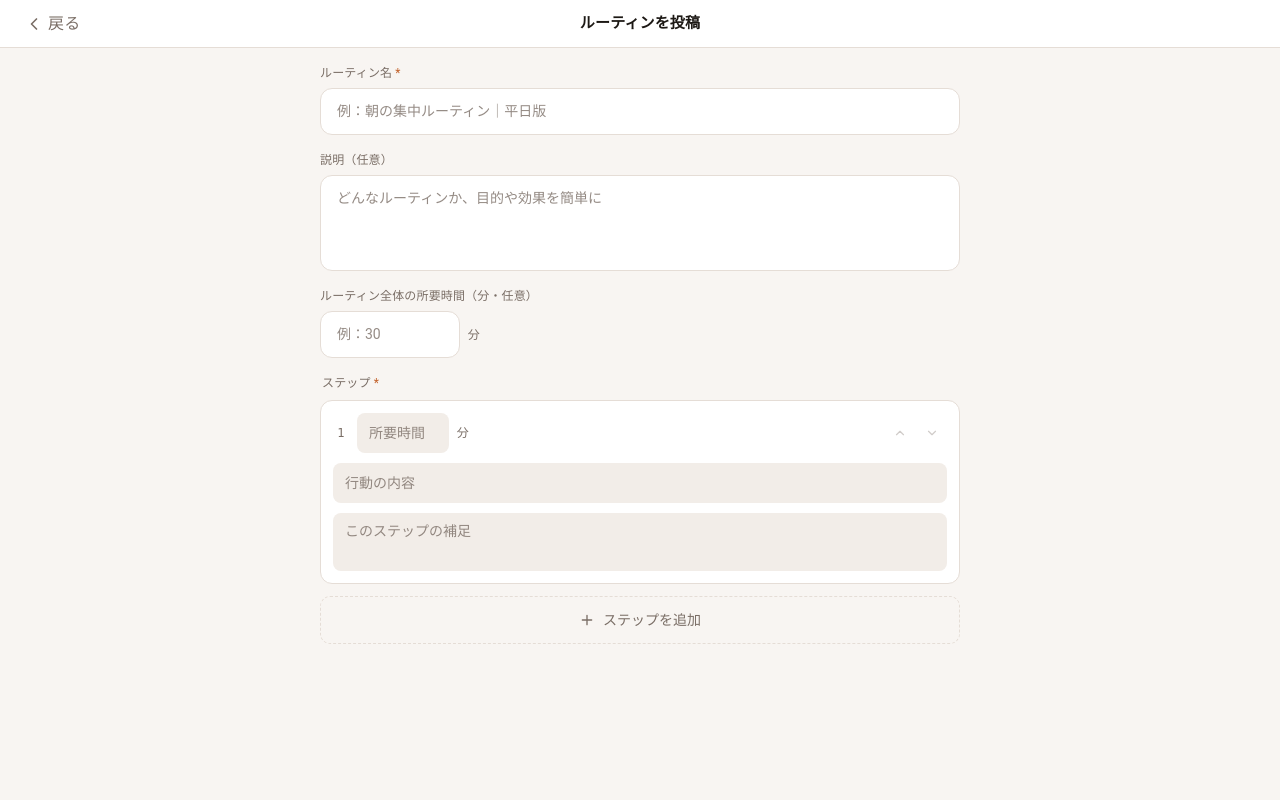
it: RoutineCreatePage › 送信失敗時に API error を表示する
This screenshot has width=1280, height=800.
In the field labelled "ルーティン名 *": (640, 112) [320,88,960,135], type "朝の習慣"
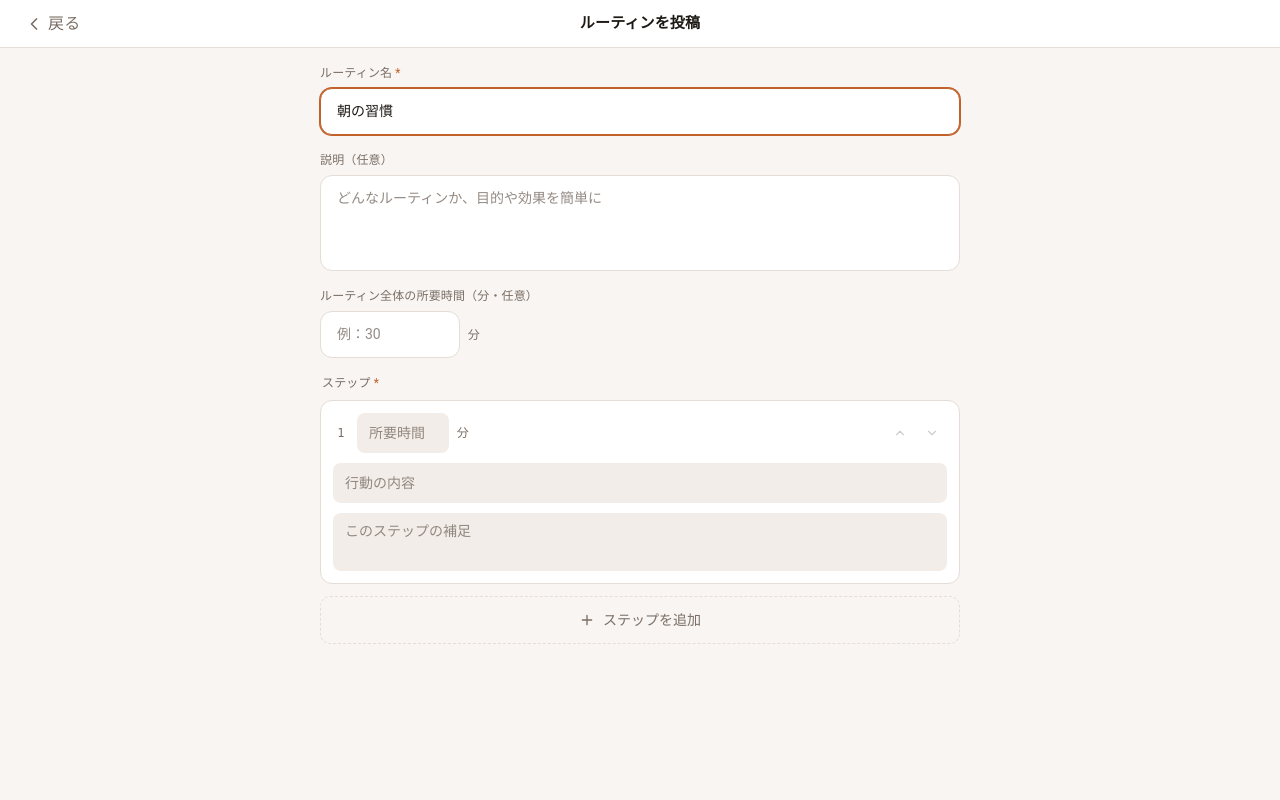
In the field with placeholder "行動の内容": (640, 483) [333,463,947,503], type "水を飲む"
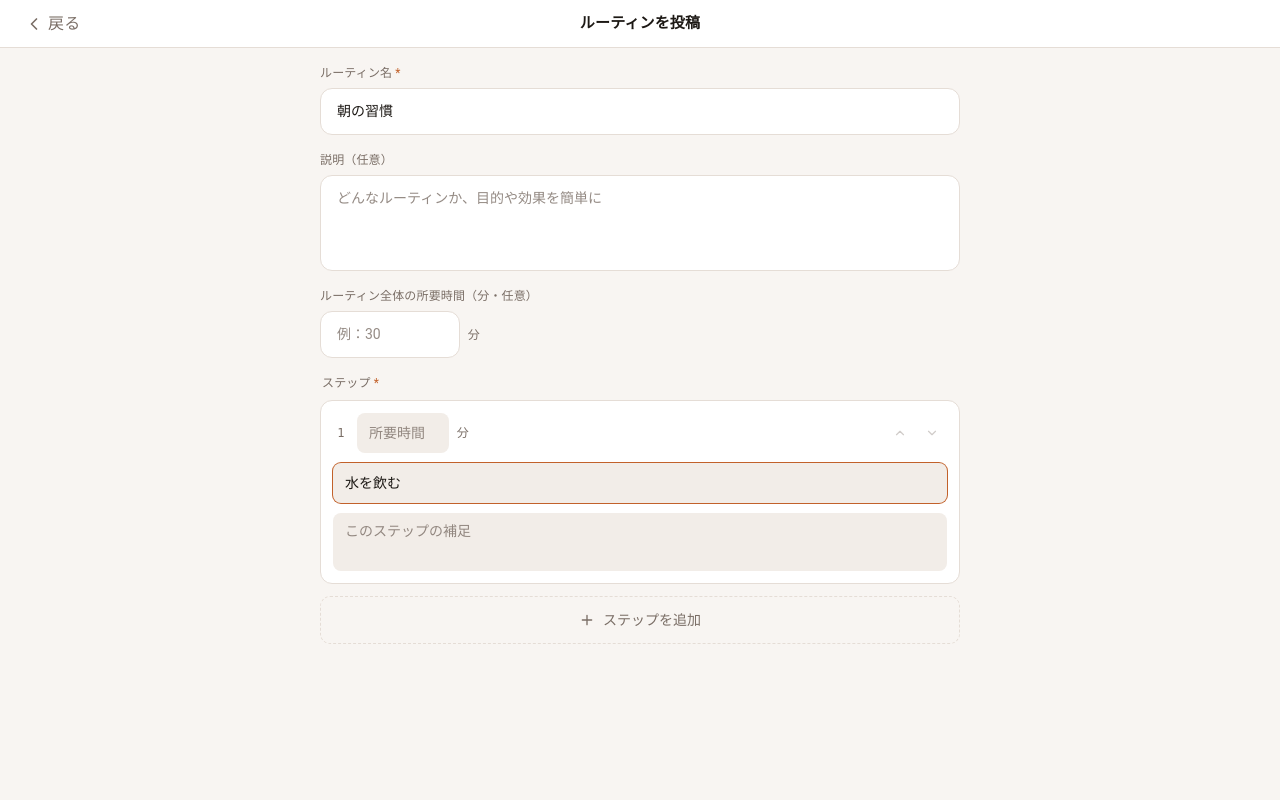
Submit the form with id "routine-create-form", box [320,64,960,644]
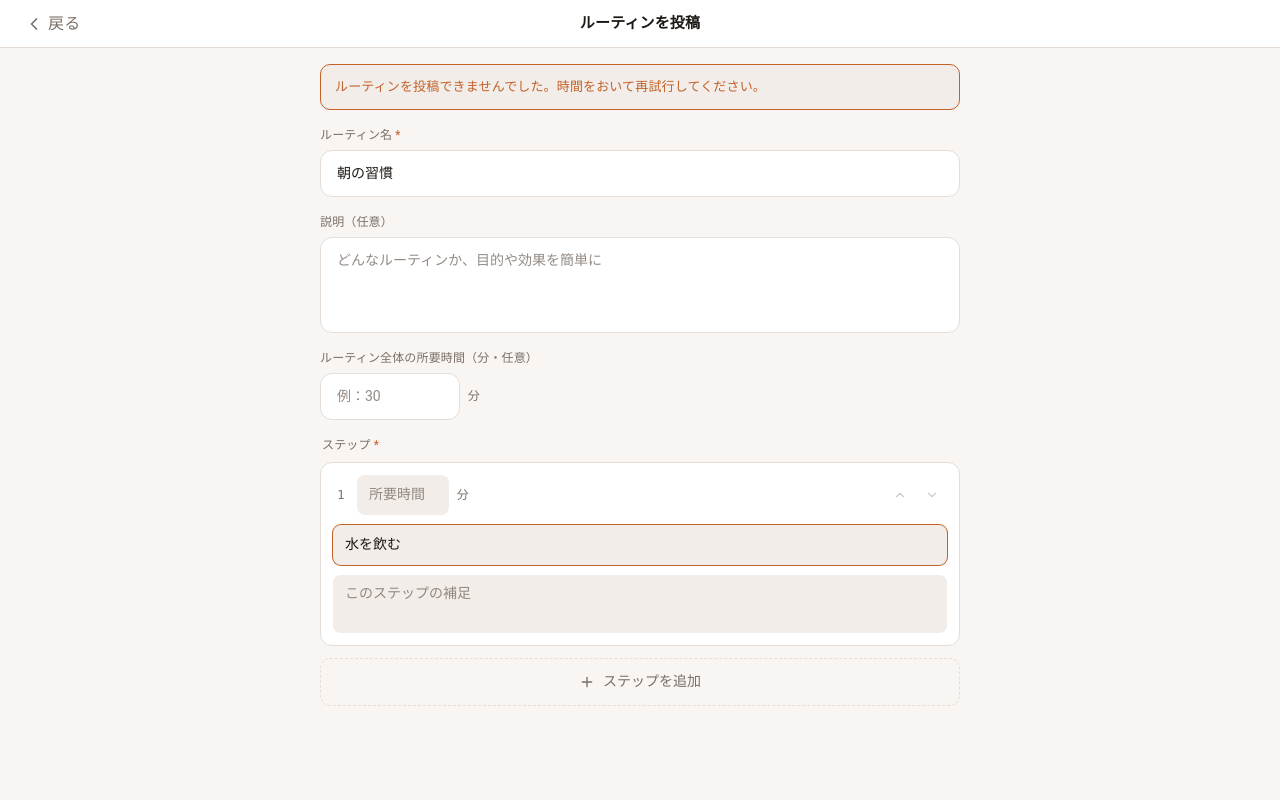
Expected: the message reads "ルーティンを投稿できませんでした。時間をおいて再試行してください。", [335,79,766,94]
